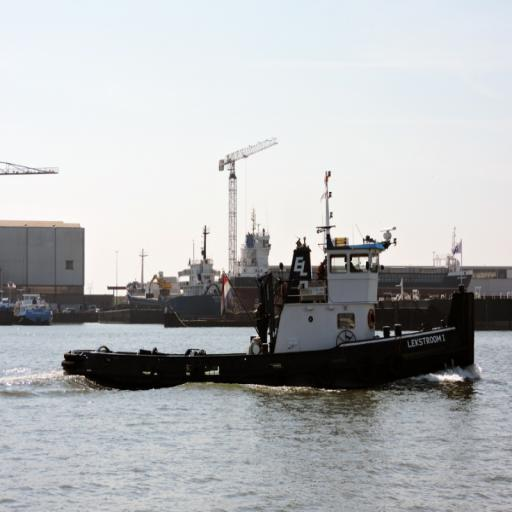tugboat: (60, 215, 488, 402)
